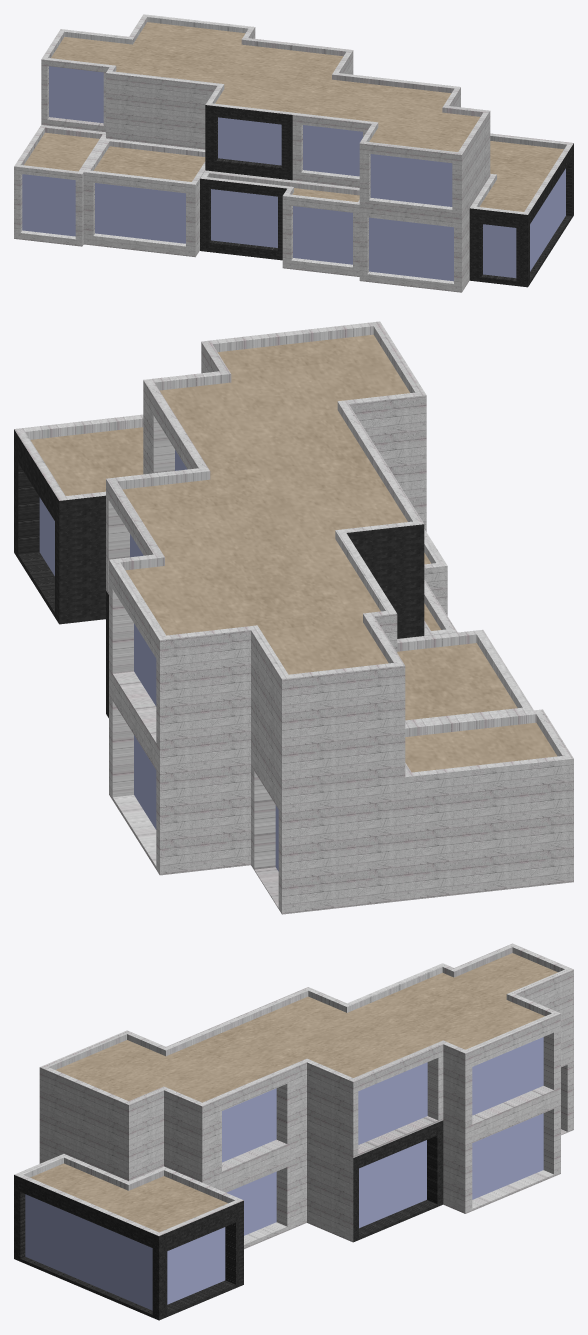
The picture shows the model from 3 angles, top to bottom: view 1: azimuth 30°, elevation 25°; view 2: azimuth 150°, elevation 25°; view 3: azimuth 270°, elevation 25°; orthographic projection. The views are drawn at different scales.
Visible parts, largest first — view 1: Cube.020; view 2: Cube.020; view 3: Cube.020.
Boxes of the visible parts, x1=… form: Cube.020: x1=14, y1=14, x2=573, y2=292; Cube.020: x1=14, y1=321, x2=573, y2=914; Cube.020: x1=14, y1=943, x2=573, y2=1320.
Bounding box in the file's own units: 35.04 × 10.39 × 32.85.
4 materials, 3 textured.
